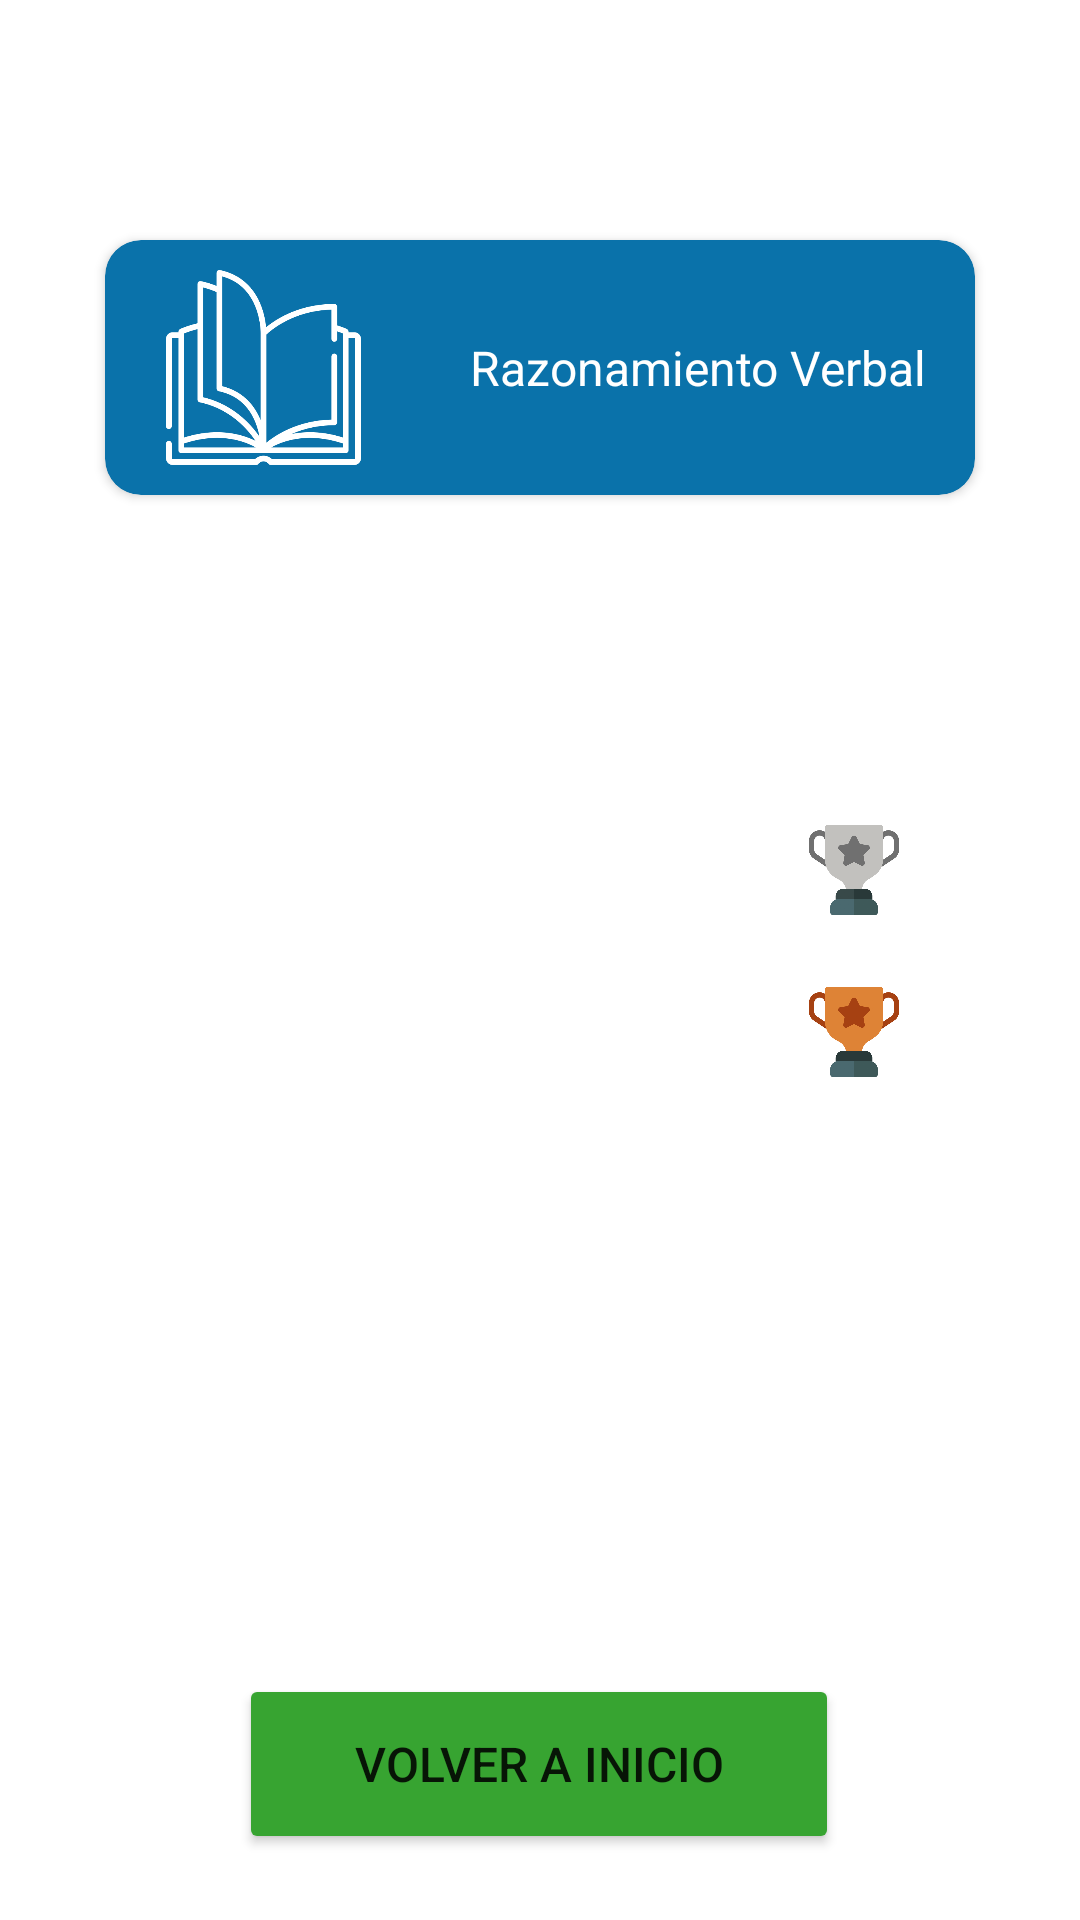

Icons on this 1080×1920 Android screen, each with its box as box(x1, y1, x2, y2):
segundo lugar: box(809, 825, 899, 915)
tercer lugar: box(809, 987, 899, 1077)
